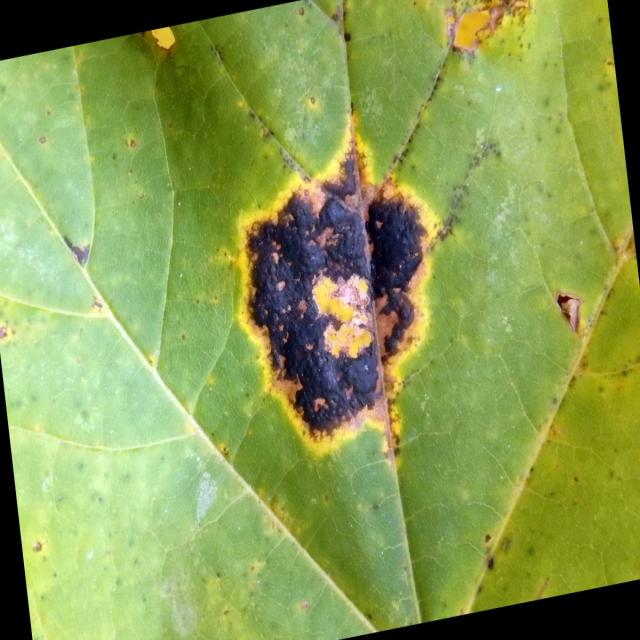Tar_Spot: (1, 1, 638, 637)
